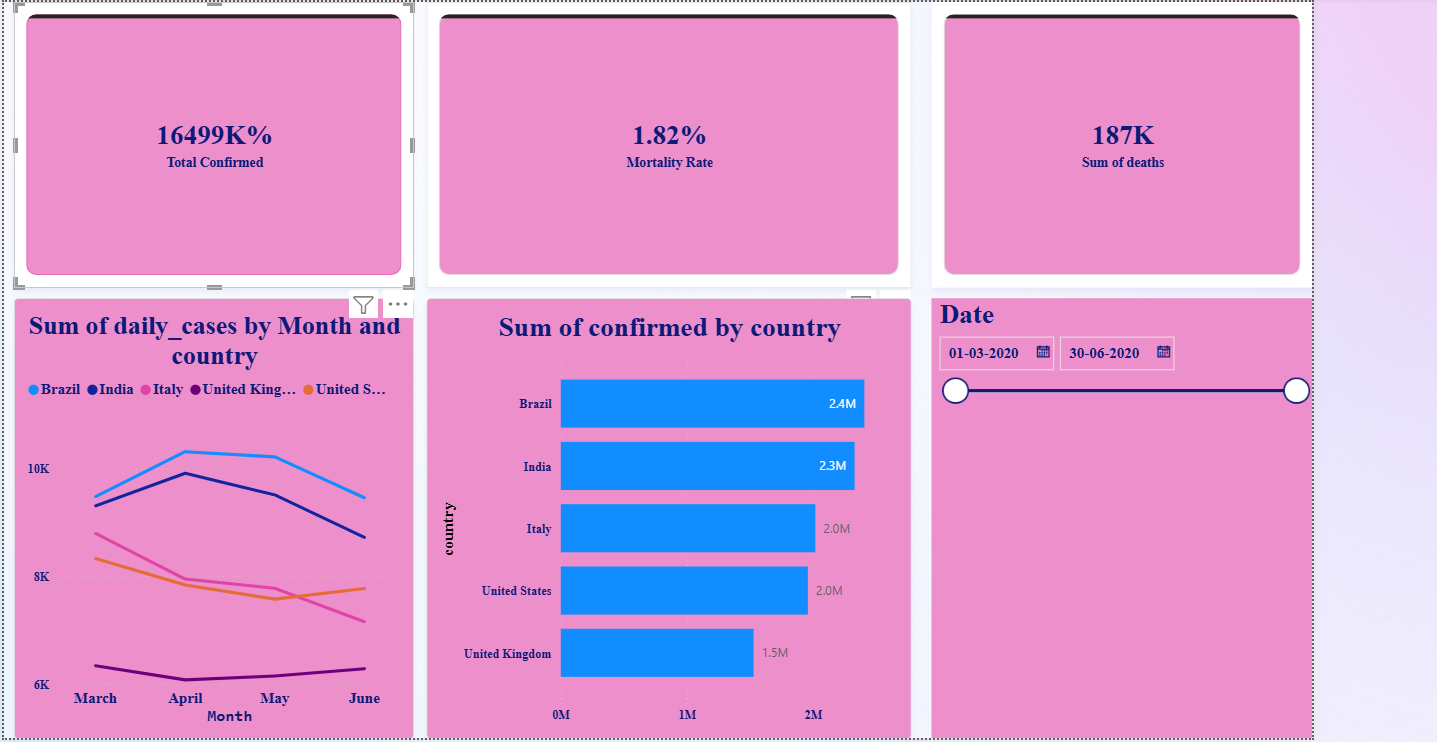

Layout of this report page (visuals, bound fields, positions):
{"tool":"powerbi","page":{"name":"Page 1","canvas":[1280,720],"ordinal":0},"visuals":[{"type":"cardVisual","fields":{"Data":["covid_data_project csv.Total Confirmed"]},"box":[9.6,0,295,279.9],"z":0},{"type":"cardVisual","fields":{"Data":["Sum(covid_data_project csv.deaths)"]},"box":[599.7,0,275.8,279.9],"z":1000},{"type":"cardVisual","fields":{"Data":["covid_data_project csv.Mortality Rate"]},"box":[304.6,0,295,279.9],"z":1001},{"type":"lineChart","fields":{"Category":["covid_data_project csv.date.Variation.Date Hierarchy.Month"],"Y":["Sum(covid_data_project csv.daily_cases)"],"Series":["covid_data_project csv.country"]},"box":[9.6,289.5,391.1,430.9],"z":1002},{"type":"clusteredBarChart","fields":{"Category":["covid_data_project csv.country"],"Y":["Sum(covid_data_project csv.confirmed)"]},"box":[413,289.5,474.8,430.9],"z":1003},{"type":"slicer","fields":{"Values":["covid_data_project csv.date"]},"box":[865.9,0,275.8,279.9],"z":1004}]}

Visuals, with their boxes in screenshot pixels (x1, y1, x2, y2):
cardVisual - covid_data_project csv.Total Confirmed: BBox(10, 11, 309, 295)
cardVisual - Sum(covid_data_project csv.deaths): BBox(609, 11, 889, 295)
cardVisual - covid_data_project csv.Mortality Rate: BBox(309, 11, 609, 295)
lineChart - covid_data_project csv.date.Variation.Date Hierarchy.Month x Sum(covid_data_project csv.daily_cases): BBox(10, 305, 407, 741)
clusteredBarChart - covid_data_project csv.country x Sum(covid_data_project csv.confirmed): BBox(419, 305, 901, 741)
slicer - covid_data_project csv.date: BBox(879, 11, 1159, 295)
